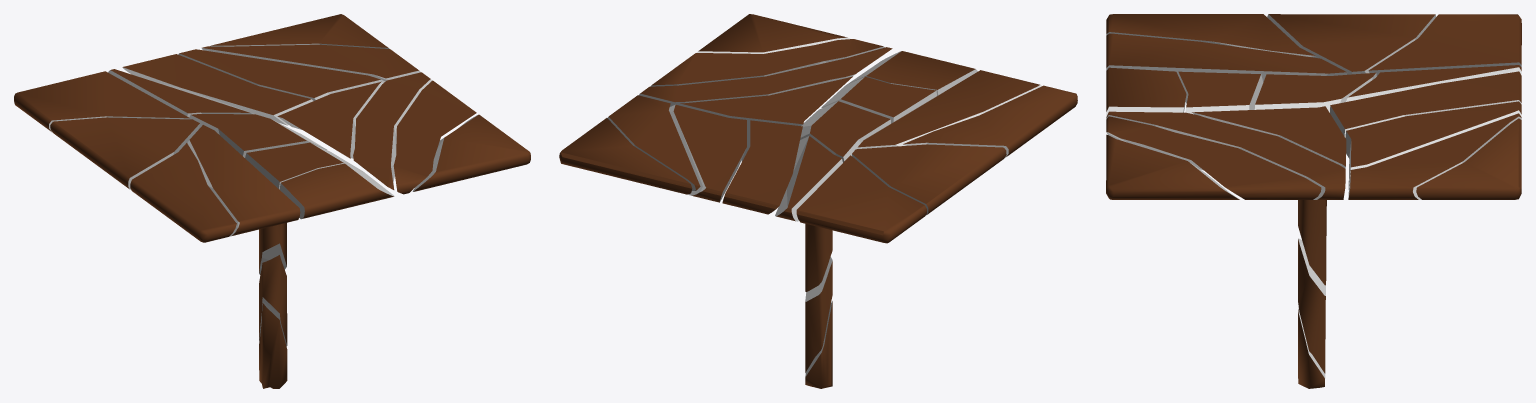
The model's file is Round Table(1).glb.
3 views of the same model, side by side, from view 1: azimuth 30°, elevation 25°; view 2: azimuth 150°, elevation 25°; view 3: azimuth 270°, elevation 25° (orthographic). The views are drawn at different scales.
Parts seen in each view (by area): view 1: id0.016, id0.011, id0.007, id0.002, id0.008, id0.010, id0.001, id0.015, id0.017, id0.012, id0.004, id0.005 (+6 smaller); view 2: id0.007, id0.016, id0.002, id0.011, id0.008, id0.010, id0.017, id0.015, id0.004, id0.003, id0.012, id0.006 (+6 smaller); view 3: id0.010, id0.011, id0.016, id0.007, id0.015, id0.008, id0.012, id0.017, id0.001, id0.002, id0.004, id0.003 (+6 smaller).
Part boxes in pixels (box(x1,y1,x2,y2)): id0.016: box(50, 117, 199, 189); id0.011: box(187, 125, 300, 236); id0.007: box(14, 71, 190, 131); id0.002: box(130, 143, 236, 242); id0.008: box(122, 54, 313, 125); id0.010: box(393, 80, 476, 194); id0.001: box(412, 114, 530, 191); id0.015: box(353, 72, 432, 189); id0.017: box(178, 49, 385, 100); id0.012: box(201, 44, 420, 81); id0.004: box(189, 114, 326, 274); id0.005: box(279, 163, 394, 219); id0.007: box(796, 155, 926, 243); id0.016: box(852, 144, 1006, 215); id0.002: box(903, 85, 1077, 157); id0.011: box(857, 70, 1041, 148); id0.008: box(722, 120, 802, 214); id0.010: box(650, 39, 884, 86); id0.017: box(669, 104, 746, 202); id0.015: box(639, 47, 892, 106); id0.004: box(800, 101, 890, 291); id0.003: box(559, 118, 692, 194); id0.012: box(607, 95, 700, 190); id0.006: box(678, 76, 852, 125); id0.010: box(1106, 116, 1321, 199); id0.011: box(1106, 33, 1347, 81); id0.016: box(1267, 14, 1436, 74); id0.007: box(1368, 14, 1521, 75); id0.015: box(1106, 111, 1345, 199); id0.008: box(1330, 71, 1521, 137); id0.012: box(1348, 113, 1521, 199); id0.017: box(1345, 101, 1521, 191); id0.001: box(1106, 134, 1239, 199); id0.002: box(1106, 14, 1315, 56); id0.004: box(1254, 72, 1376, 285); id0.003: box(1416, 118, 1521, 199).
Size of the model in its own units: 0.8209 by 0.6189 by 0.8209.
